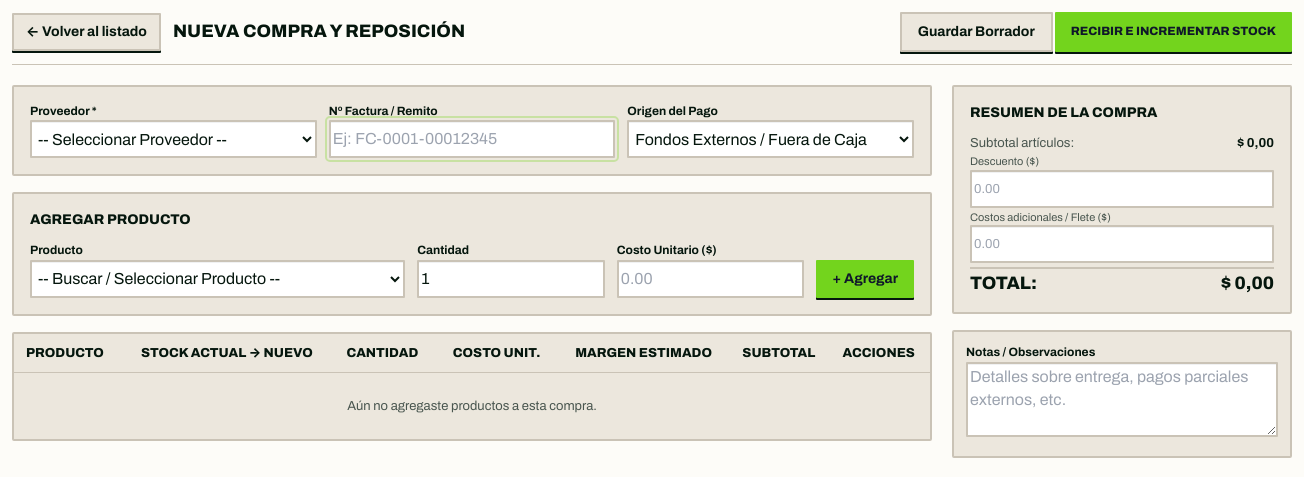
Test: PurchaseEditorView direct receipt recovery › locks pending receipt fields and draft creation while leaving receipt retry available
The image size is (1304, 477).
Select "Distribuidora" in the dropdown with test id "purchase-editor-supplier-select" at (173, 139), box [30,120,317,158]
Type "FC-123" into the field with test id "purchase-editor-invoice-input" at (472, 139), box [329,120,615,158]
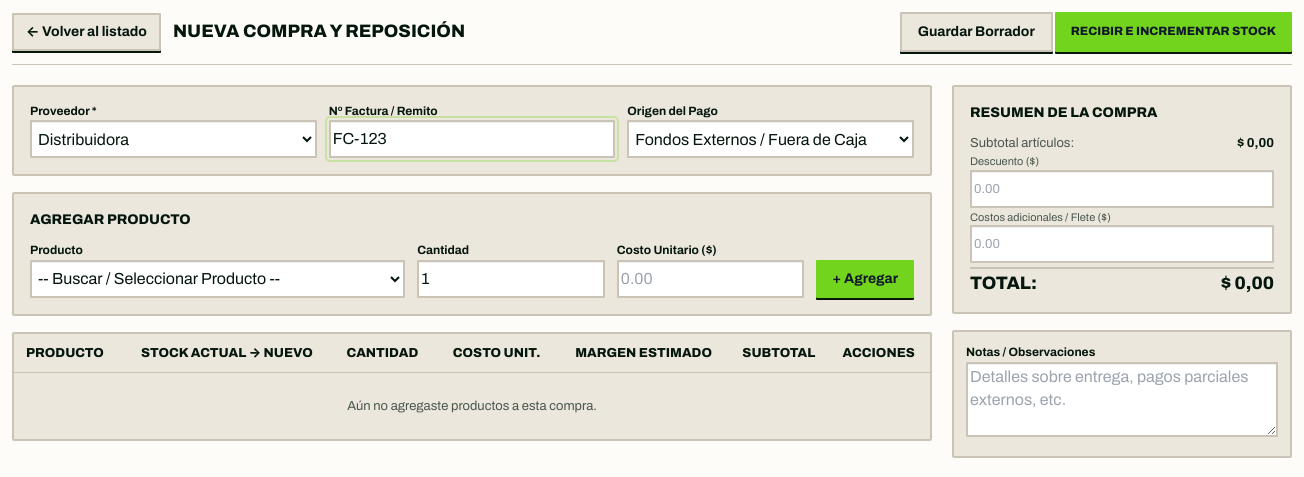
Type "Entrega completa" into the text box with test id "purchase-notes-input" at (1122, 400), box [966,362,1278,437]
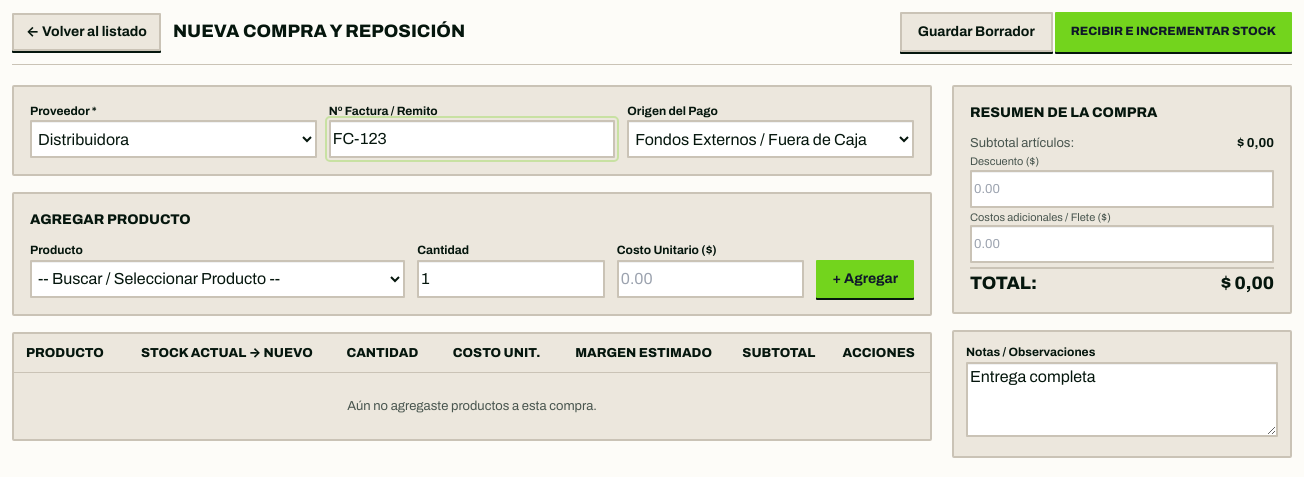
Select "Yerba — Stock: 5" in the dropdown with test id "purchase-item-product-select" at (218, 279), box [30,260,405,298]
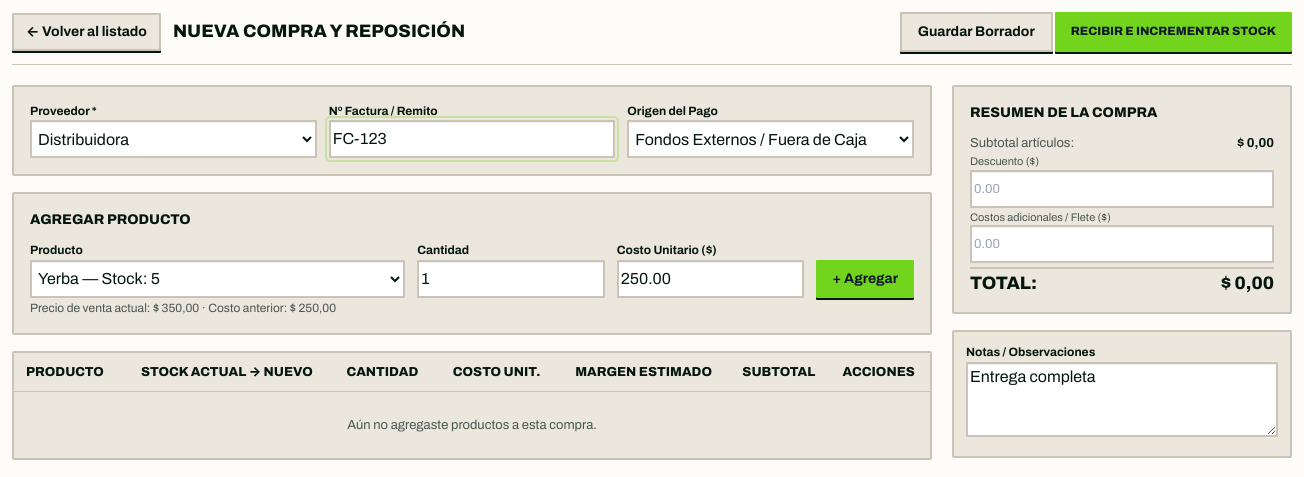
Replace the text in the number field with test id "purchase-item-quantity-input" with "2" at (511, 279), box [417,260,605,298]
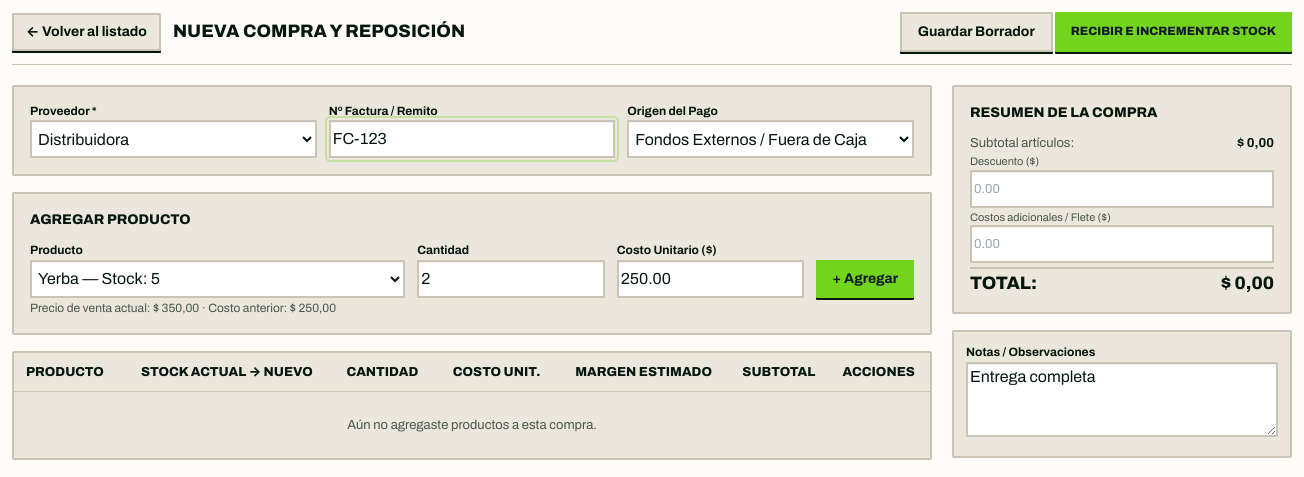
Click the button with test id "add-line-item-btn" at (865, 279), box [816,260,914,298]
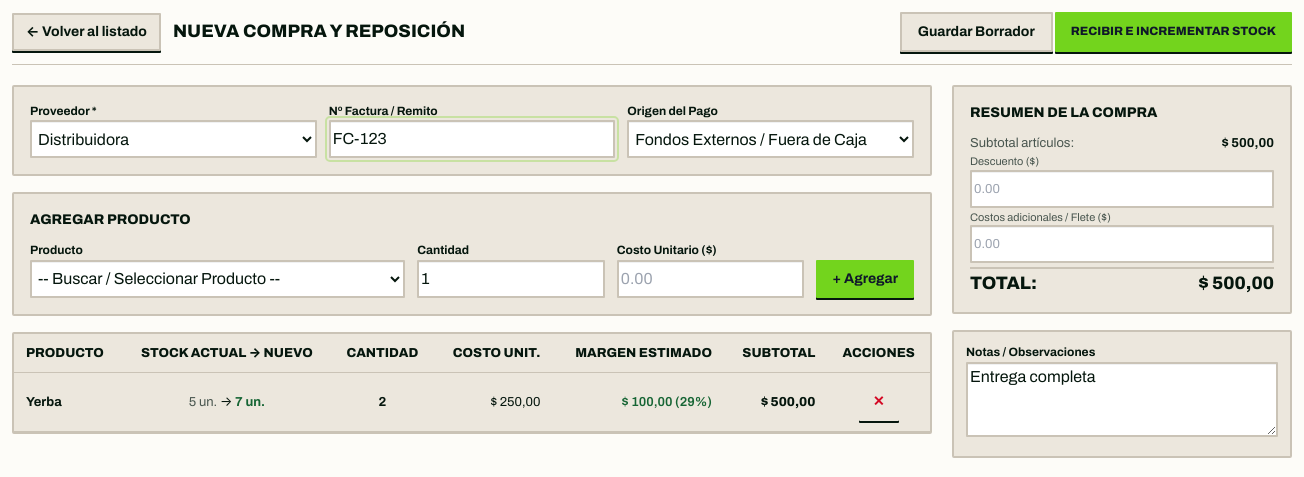
Click the button with test id "receive-purchase-btn" at (1173, 32), box [1055,12,1292,52]
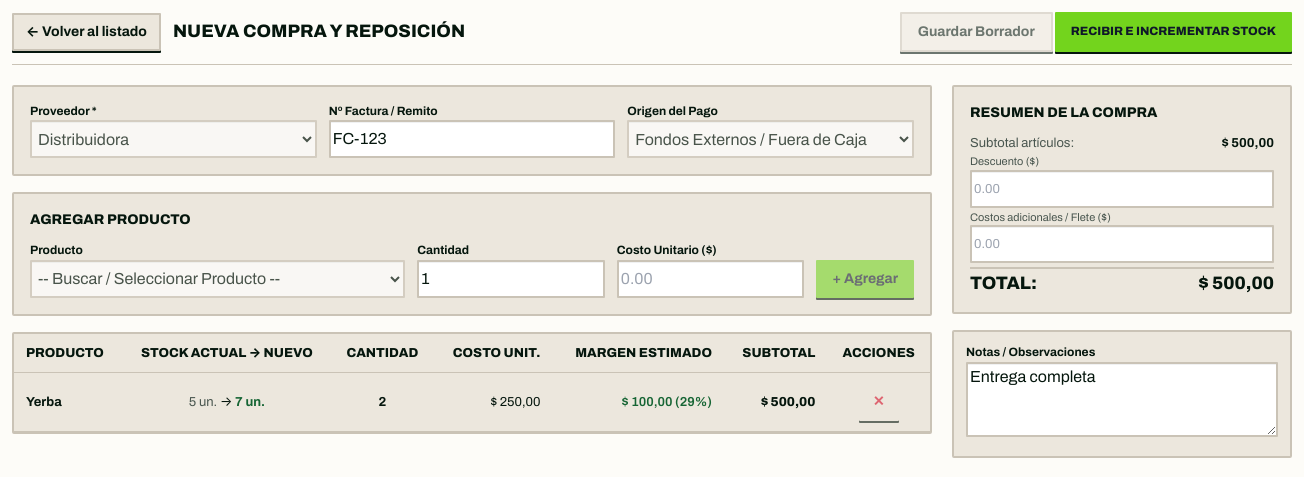
Expected: the dropdown with test id "purchase-editor-supplier-select" is disabled, [30,120,317,158]
Expected: the dropdown with test id "purchase-editor-payment-select" is disabled, [627,120,914,158]
Expected: the button with test id "add-line-item-btn" is disabled, [816,260,914,298]
